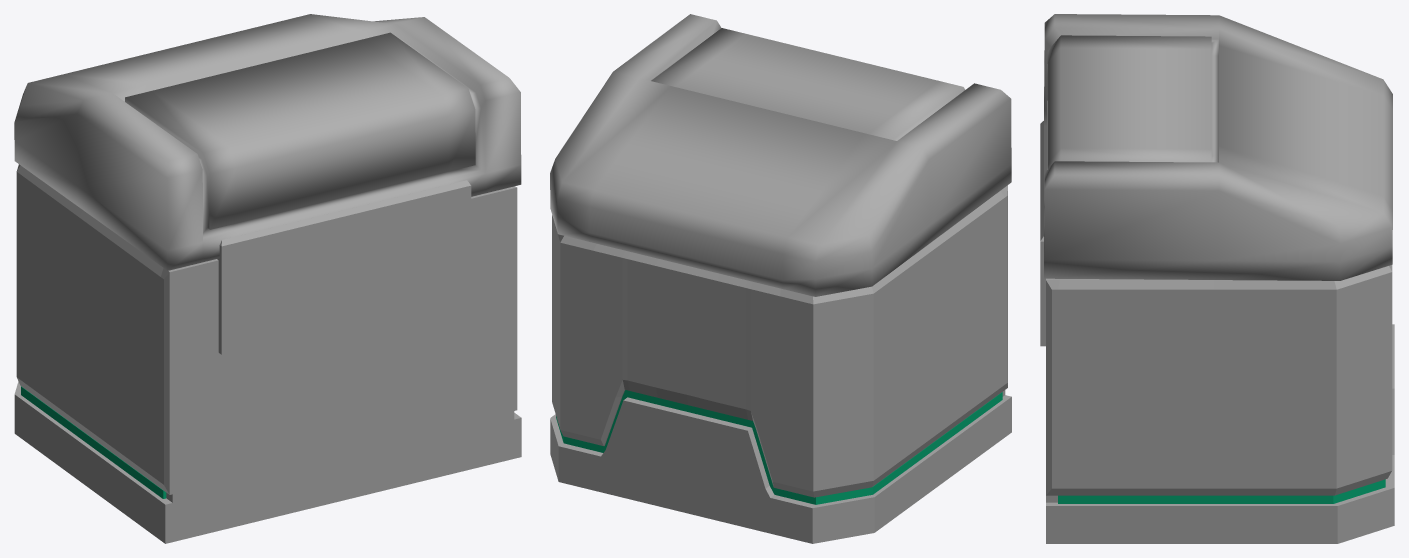
File: Trashcan_01.fbx
The picture shows the model from 3 angles, left to right: view 1: azimuth 30°, elevation 25°; view 2: azimuth 150°, elevation 25°; view 3: azimuth 270°, elevation 25°; orthographic projection. The views are drawn at different scales.
Visible parts, largest first — view 1: TrashcanBottom_01, TrashcanTop_01; view 2: TrashcanBottom_01, TrashcanTop_01; view 3: TrashcanBottom_01, TrashcanTop_01.
Part boxes in pixels (x1,y1,x2,y2): TrashcanBottom_01: [14, 164, 521, 543]; TrashcanTop_01: [14, 14, 521, 270]; TrashcanBottom_01: [550, 185, 1011, 543]; TrashcanTop_01: [550, 14, 1011, 296]; TrashcanBottom_01: [1040, 121, 1394, 543]; TrashcanTop_01: [1044, 14, 1392, 280].
Bounding box in the file's own units: 183 × 185 × 163.
